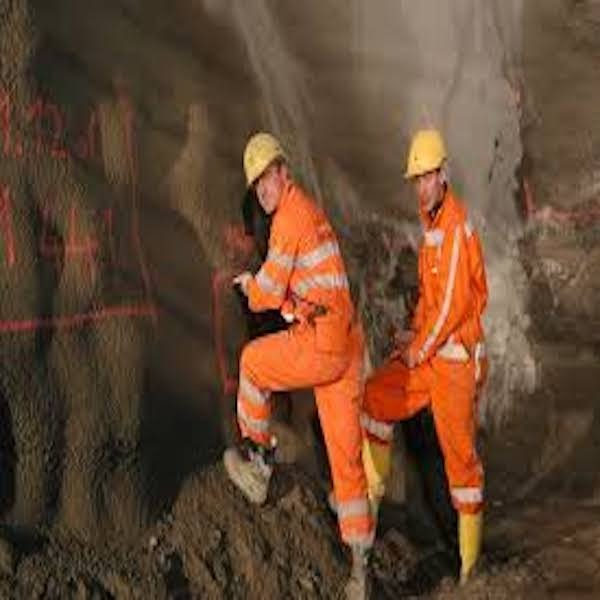helmet: (238, 131, 290, 184), (403, 127, 451, 178)
vest: (242, 212, 359, 439), (409, 215, 483, 416)
